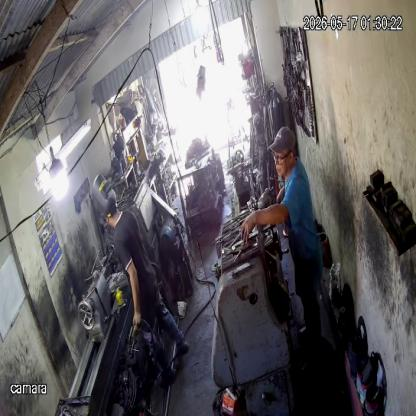lentes: (271, 149, 291, 165)
